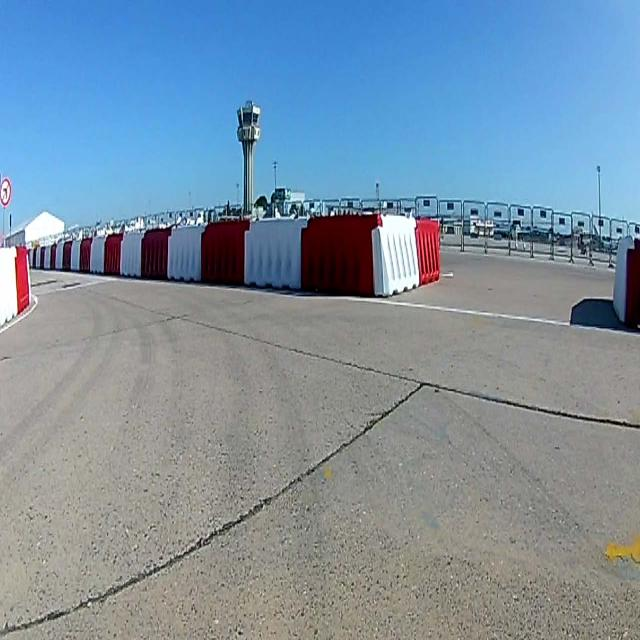soladonulmez: (2, 180, 11, 204)
